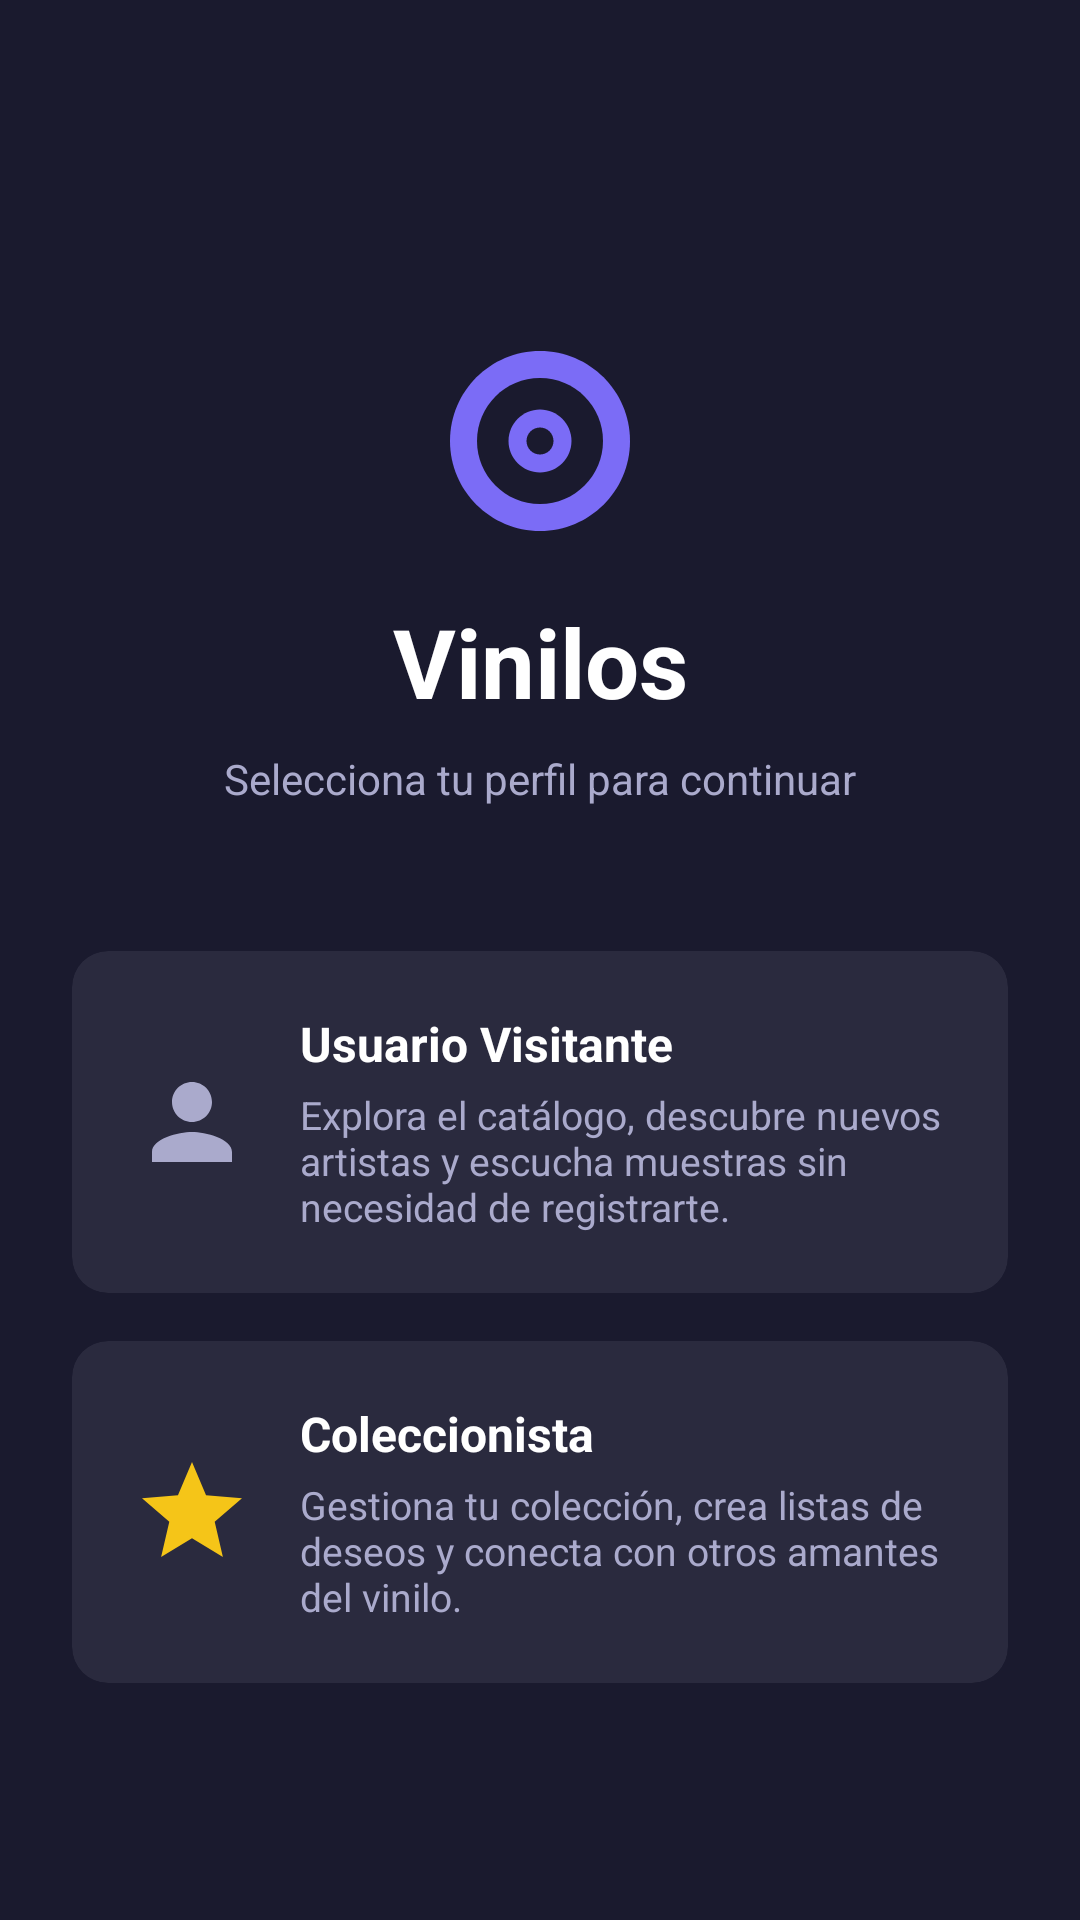

Locate icon controls on the screen. Image size 1080px×1920px, boxes as [x1=x1, y1=y1, x2=x2, y2=y2].
Icono visitante: [x1=152, y1=1082, x2=232, y2=1162]
vinyl record: [x1=450, y1=351, x2=630, y2=531]
